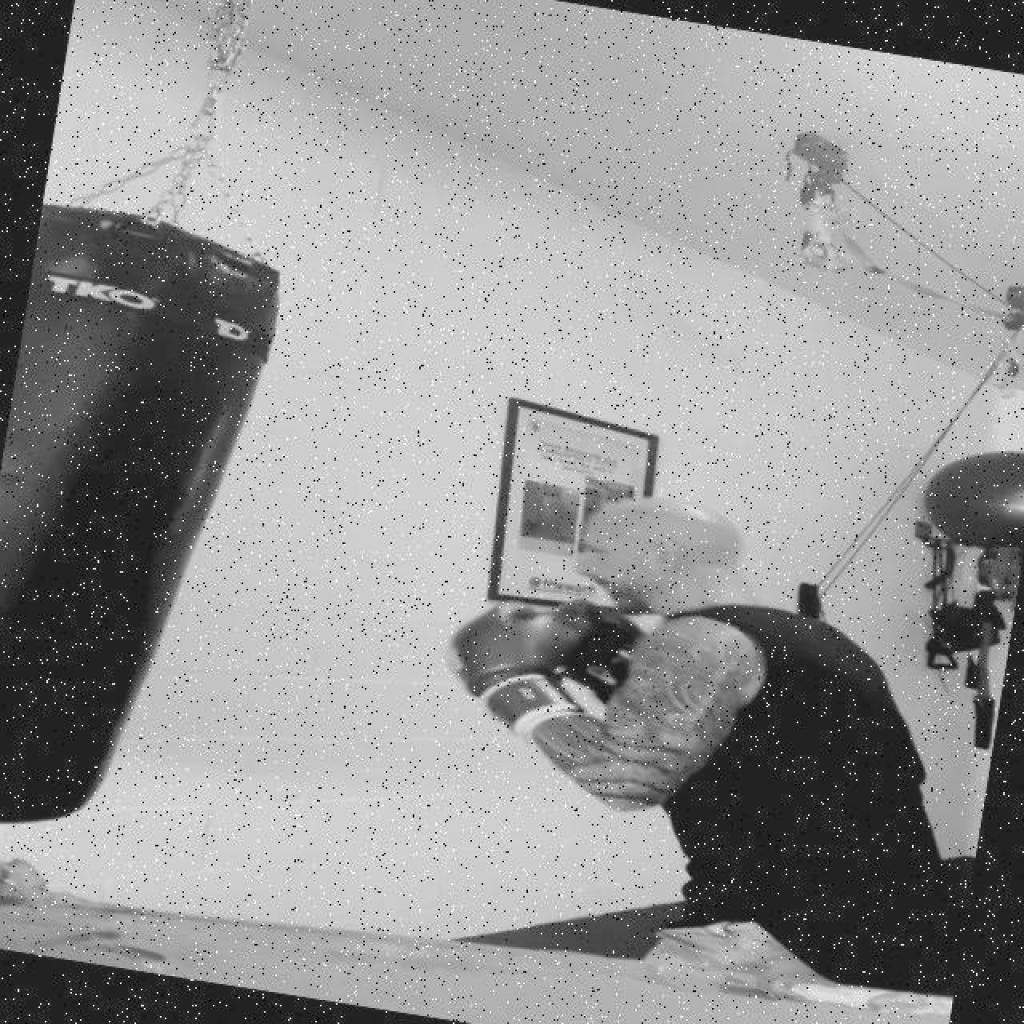bag: (0, 187, 282, 858)
no punch: (416, 464, 936, 843)
